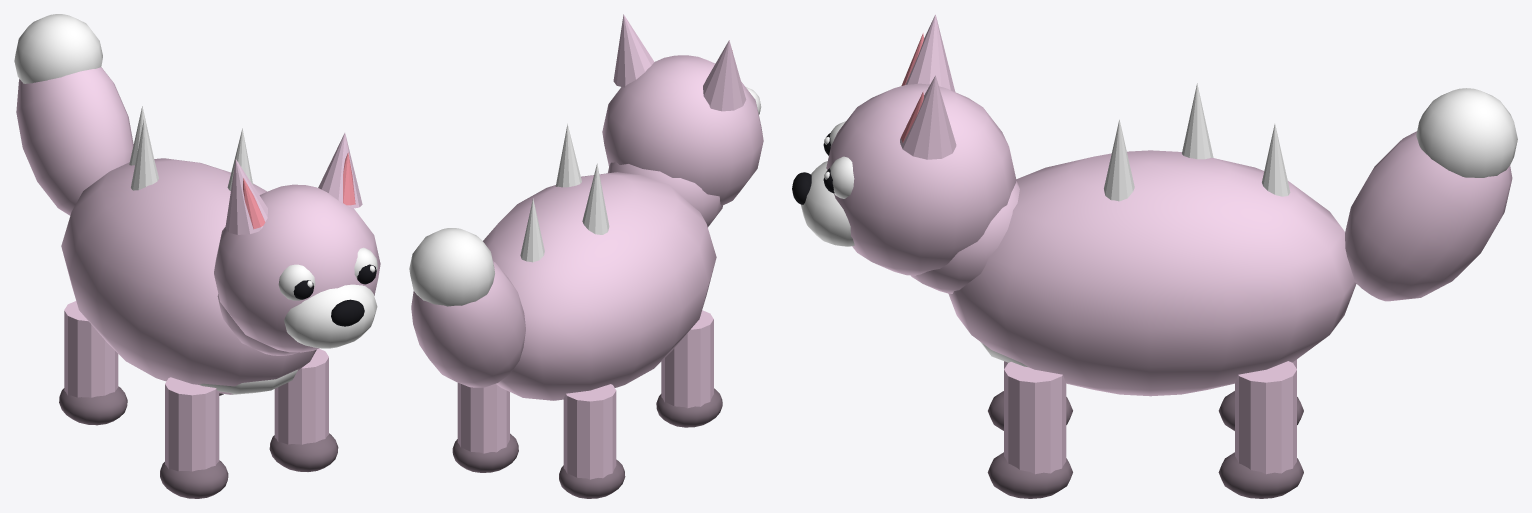
The picture shows the model from 3 angles, left to right: view 1: azimuth 30°, elevation 25°; view 2: azimuth 150°, elevation 25°; view 3: azimuth 270°, elevation 25°; orthographic projection. The views are drawn at different scales.
Parts seen in each view (by area): view 1: Quartz Fox; view 2: Quartz Fox; view 3: Quartz Fox.
Part boxes in pixels (x1,y1,x2,y2): Quartz Fox: (14,14,380,498); Quartz Fox: (409,14,763,498); Quartz Fox: (792,14,1517,498).
Size of the model in its own units: 1.7 by 2.97 by 4.67.
1 material, 1 textured.
